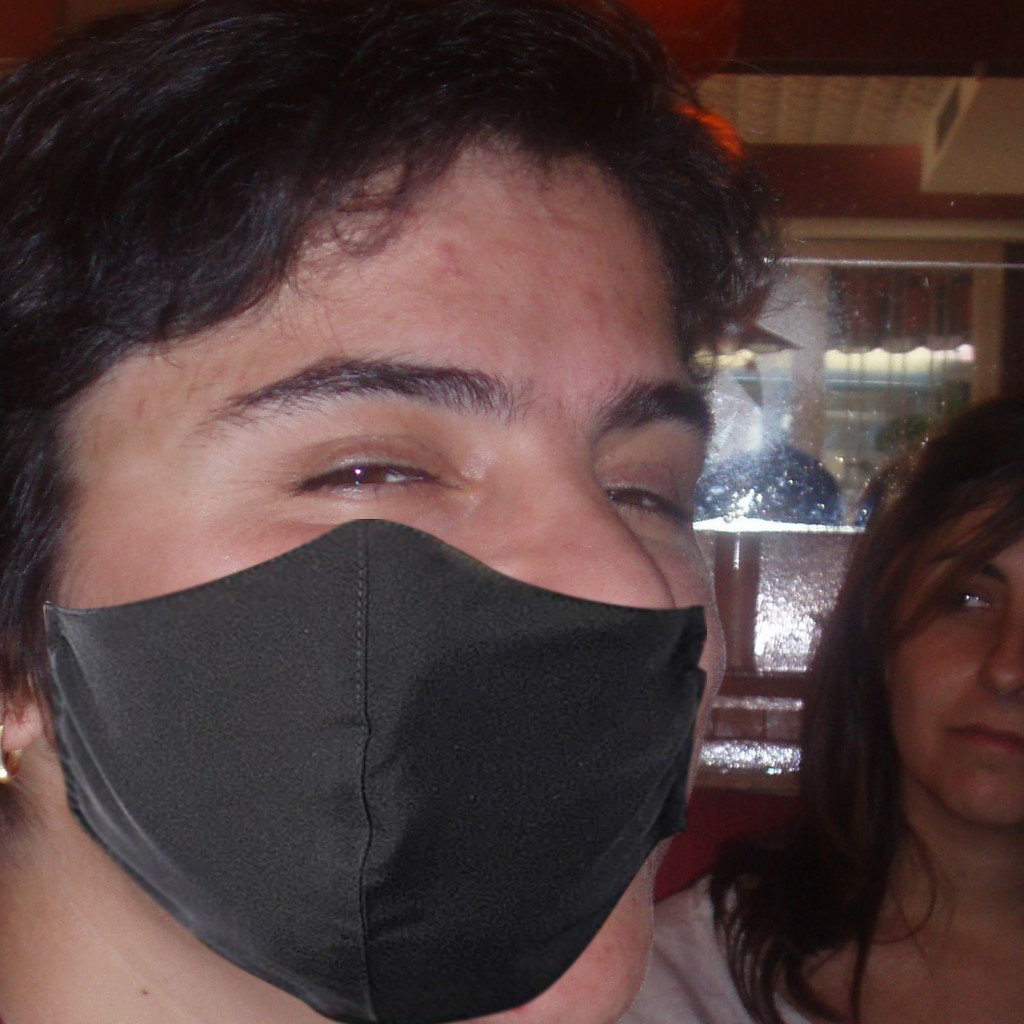con_mascara: (72, 79, 730, 1000)
